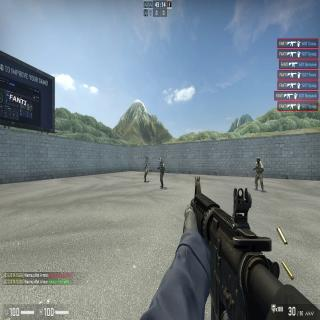CT-Body: (255, 156, 263, 192), (159, 158, 164, 189)
CT-Head: (257, 157, 260, 163), (160, 158, 162, 163)
